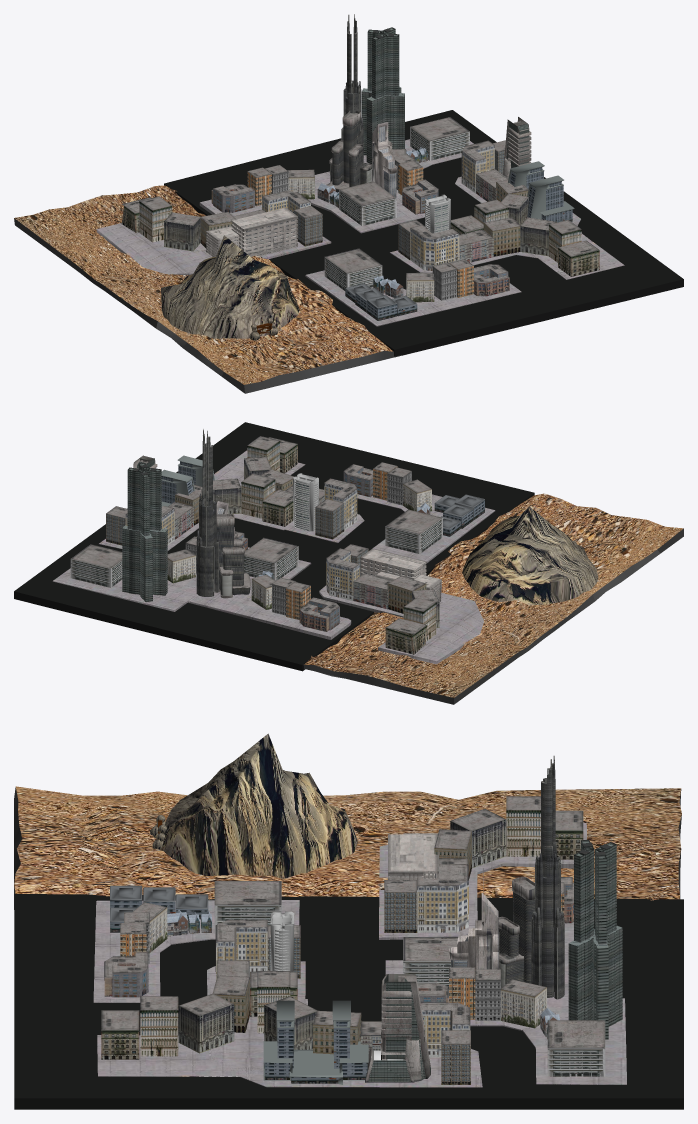
Rendered from Mapa Locaciones.obj.
3 renders of one model, top to bottom at view 1: azimuth 30°, elevation 25°; view 2: azimuth 150°, elevation 25°; view 3: azimuth 270°, elevation 25°, orthographic. The views are drawn at different scales.
Visible parts, largest first — view 1: The City, Mesh, Sphere; view 2: The City, Mesh, Sphere; view 3: The City, Mesh, Sphere.
Part boxes in pixels (x1,y1,x2,y2): The City: (96,14,683,357); Mesh: (14,185,401,393); Sphere: (161,235,299,338); The City: (14,422,534,671); Mesh: (303,493,683,704); Sphere: (462,506,598,605); The City: (14,755,683,1109); Mesh: (14,786,681,909); Sphere: (161,733,357,878).
Bounding box in the file's own units: 2330 × 883 × 2126.
